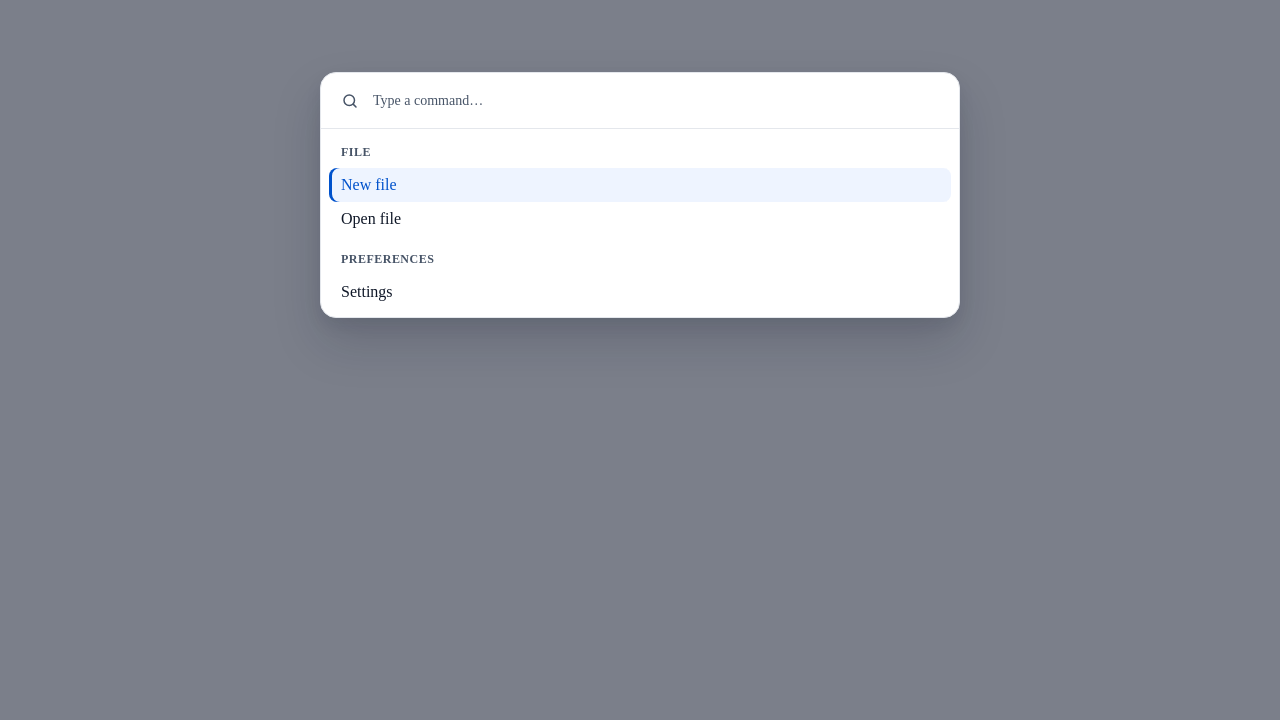
Test: Command › matches against keywords case-insensitively
Type "CREATE" into the dropdown at point(655, 100), box 371,89 -> 939,112
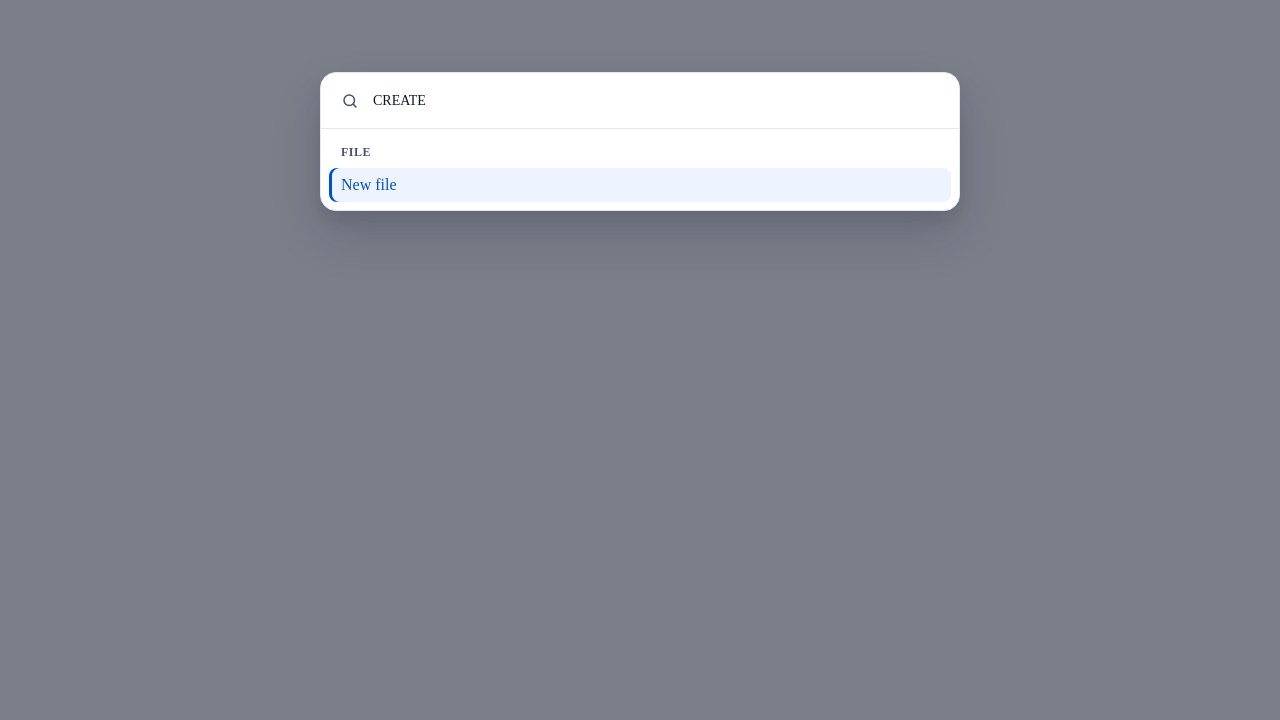
Expected: the option reads "New file", 329,168 -> 951,202
Expected: the number of options is 1, 329,168 -> 951,202
